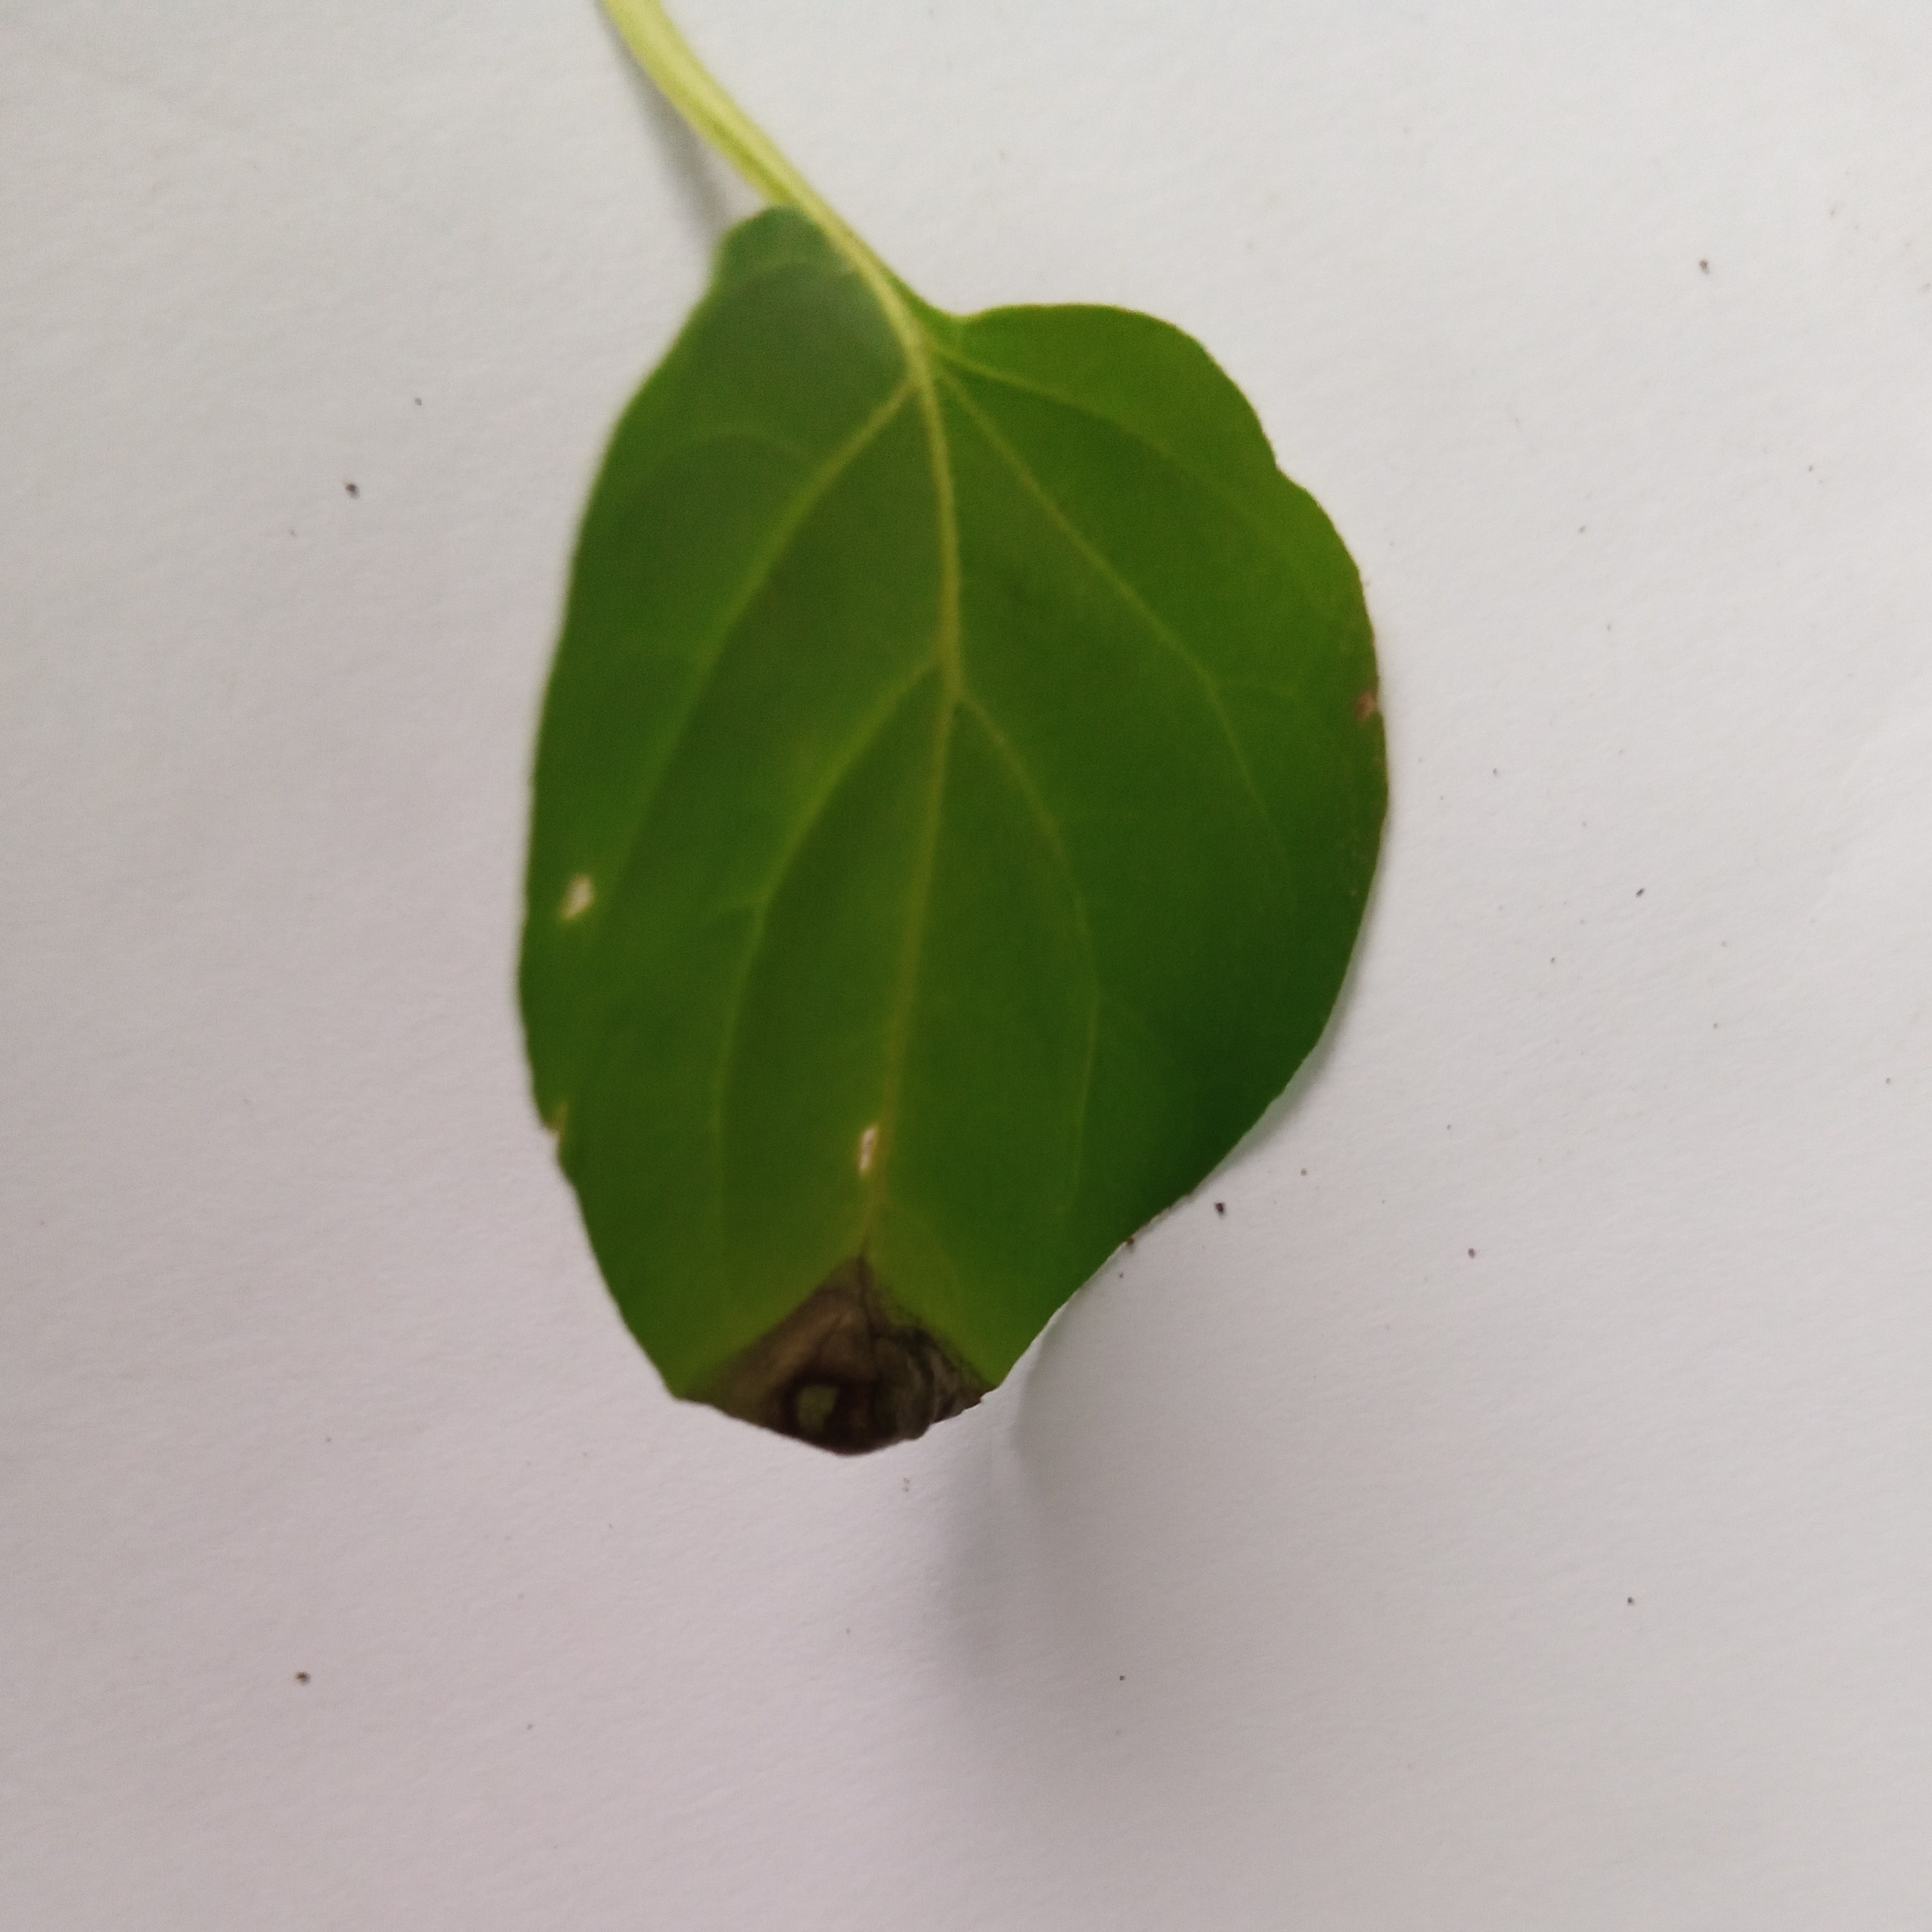Leaf: (343, 166, 1633, 1734)
